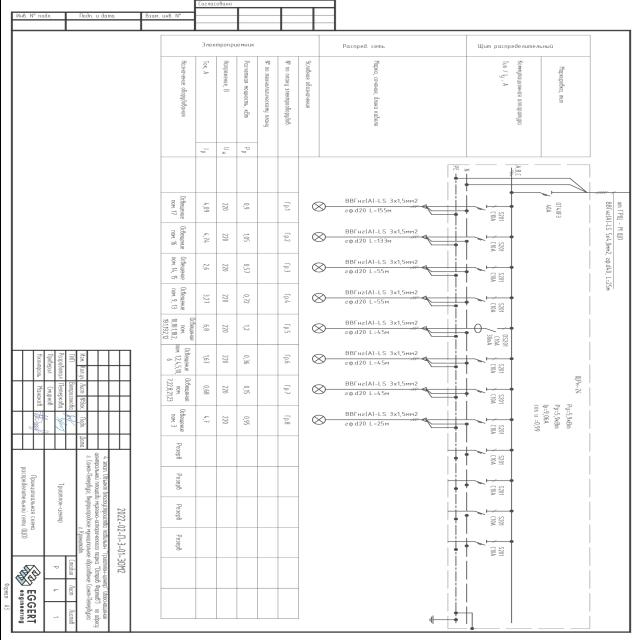-: (484, 333, 509, 348), (544, 201, 562, 220), (572, 373, 584, 395), (487, 546, 505, 558), (486, 424, 504, 436), (486, 394, 504, 406), (487, 363, 505, 375), (487, 516, 505, 528), (486, 454, 504, 466), (488, 484, 506, 496), (488, 272, 504, 284), (488, 242, 504, 254), (488, 302, 504, 314), (489, 210, 505, 222)
QF: (470, 507, 496, 516), (472, 203, 498, 211), (472, 355, 498, 363), (471, 416, 497, 424), (472, 233, 498, 241), (471, 293, 497, 301), (471, 447, 496, 455), (471, 264, 496, 272), (471, 476, 496, 484), (471, 386, 496, 394), (471, 538, 496, 546), (537, 190, 554, 197)
QFD: (472, 322, 506, 334)
